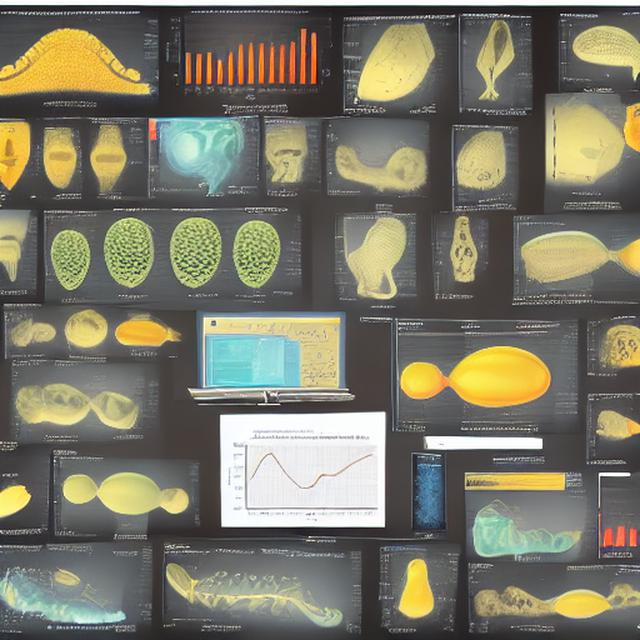Graph: (162, 7, 322, 102), (223, 433, 381, 523)
